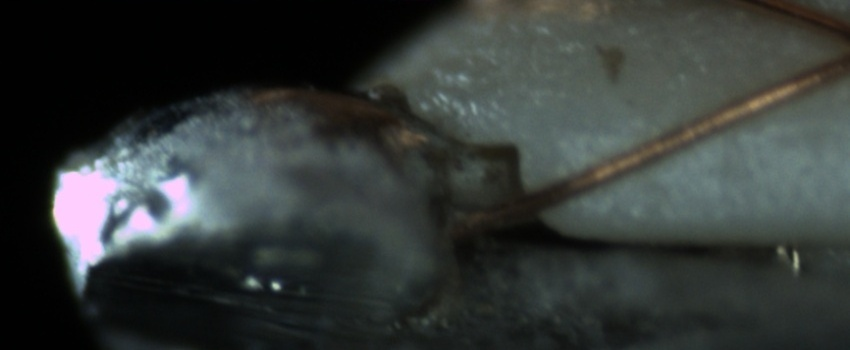DL: (552, 97, 840, 163)
